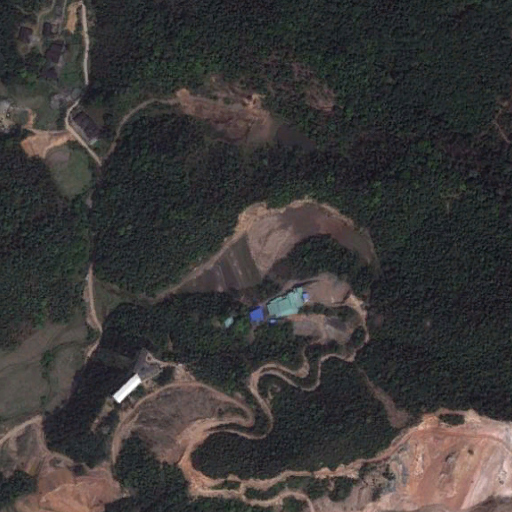tp: (157, 197, 387, 297)
